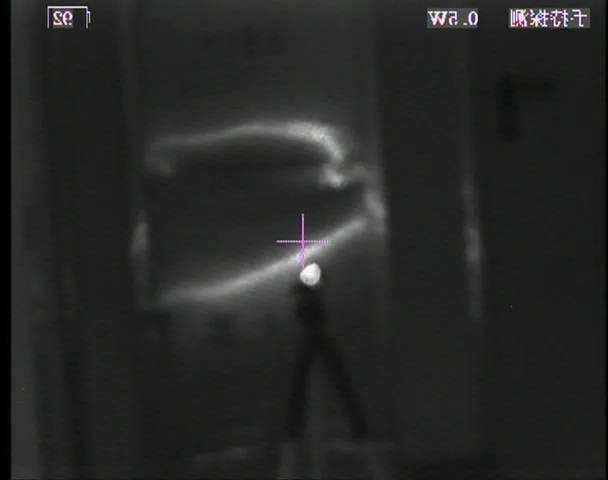my: (297, 260, 322, 287)
